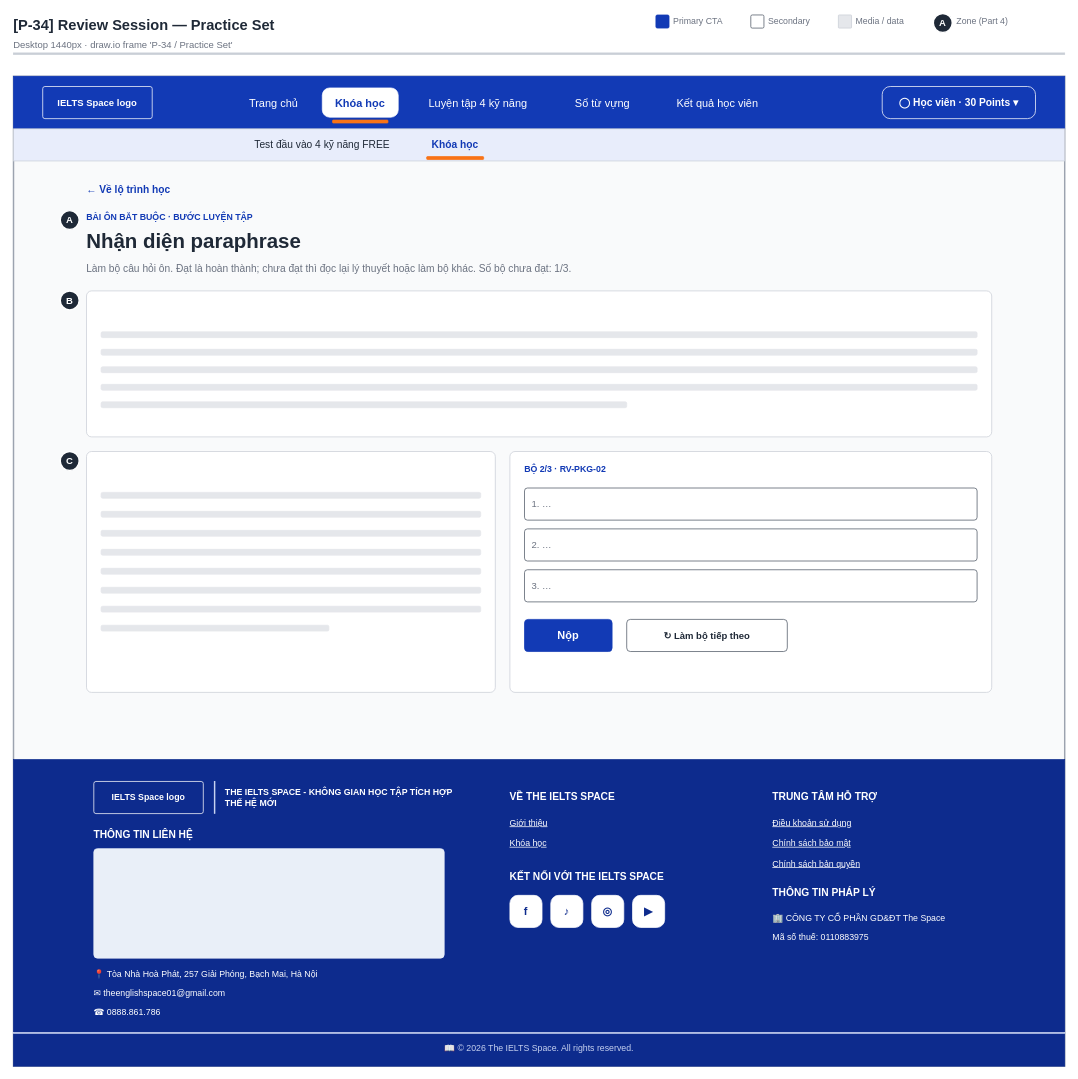
Image size: 1078x1079. Some labels were removed from this diagram. The shapes that lost their labels are listed below. From the top down, each one's centre as x and y in pixels, then its label:
(539,363): 📘 Lý thuyết cần nhớ
(290,571): Review audio / Passage
(268,903): 📍 The IELTS Space Mở trong Maps ↗
